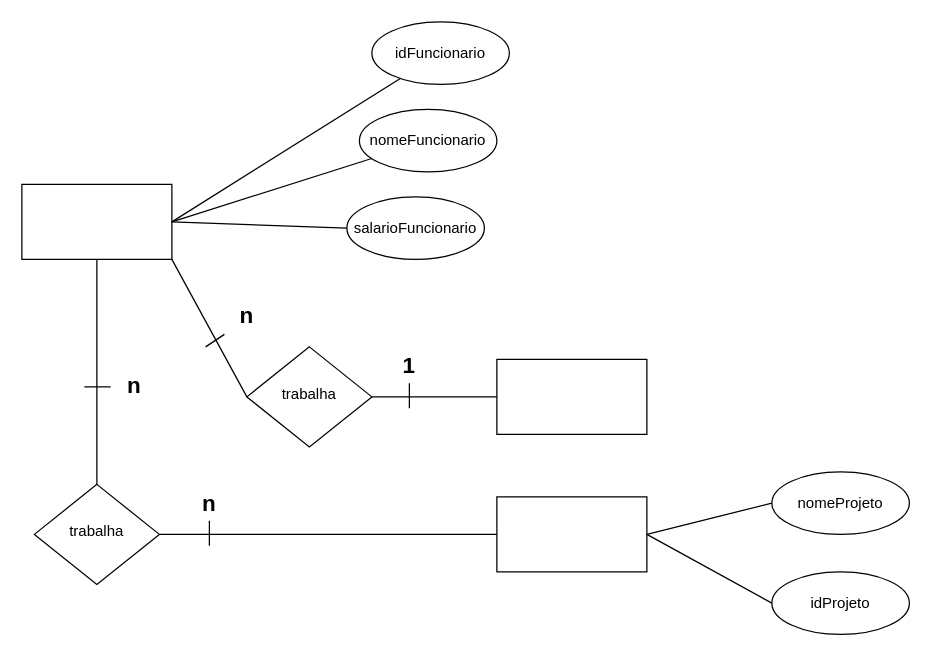
The diagram is 931 pixels wide and 656 high, and some of its shapes have lost their labels. The shapes that lost their labels are listed below. From the top down, each one's centre as x and y in pixels, then its label:
pixel 96 221: funcionário
pixel 571 396: departamento
pixel 571 534: projeto
